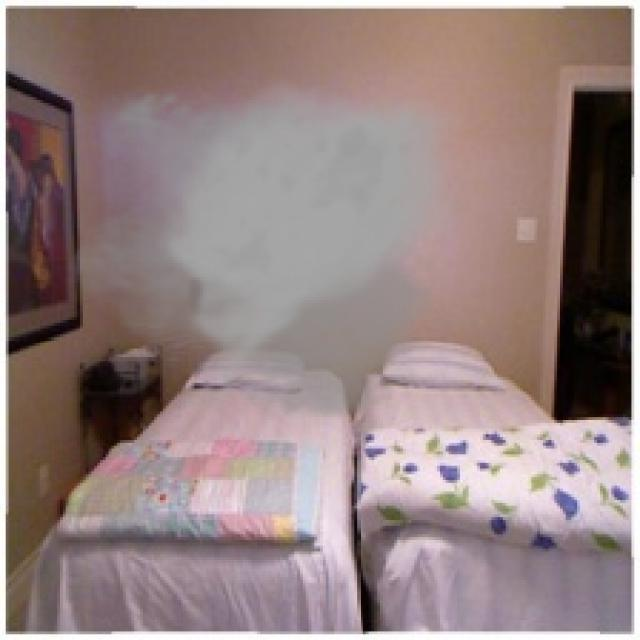Smoke: (69, 80, 468, 423)
